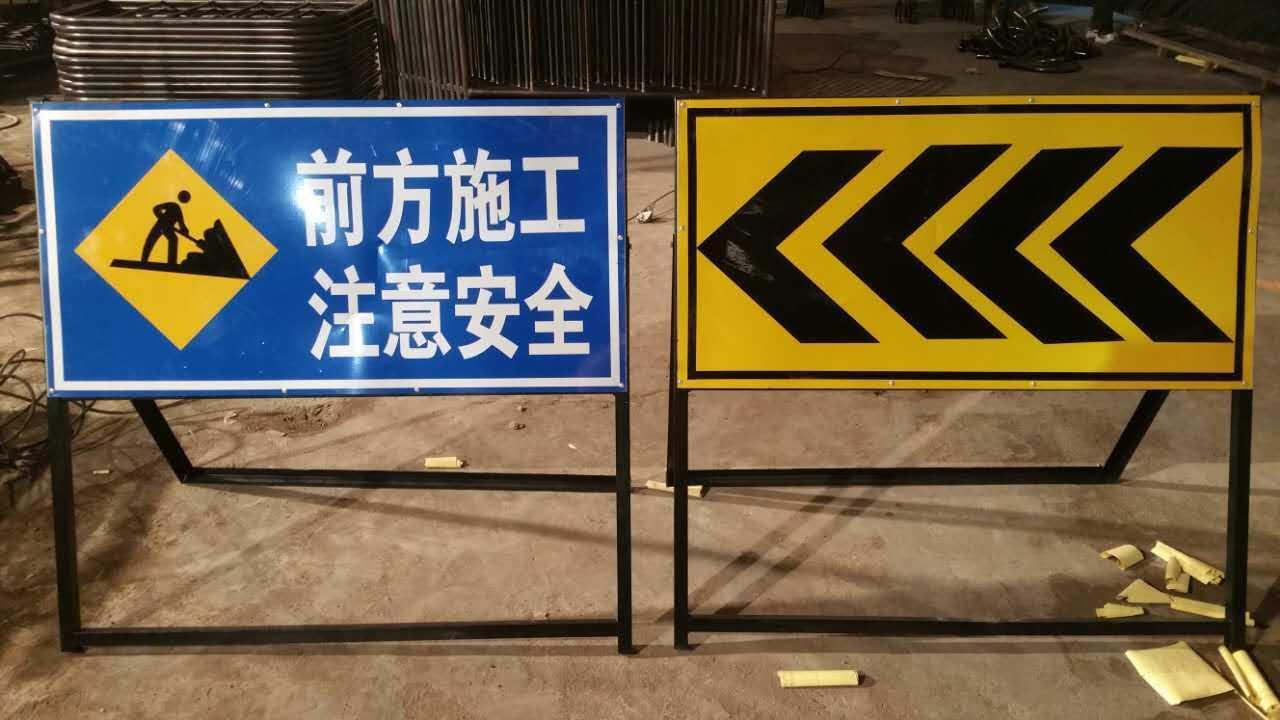sign: (37, 110, 625, 389), (683, 107, 1258, 386)
